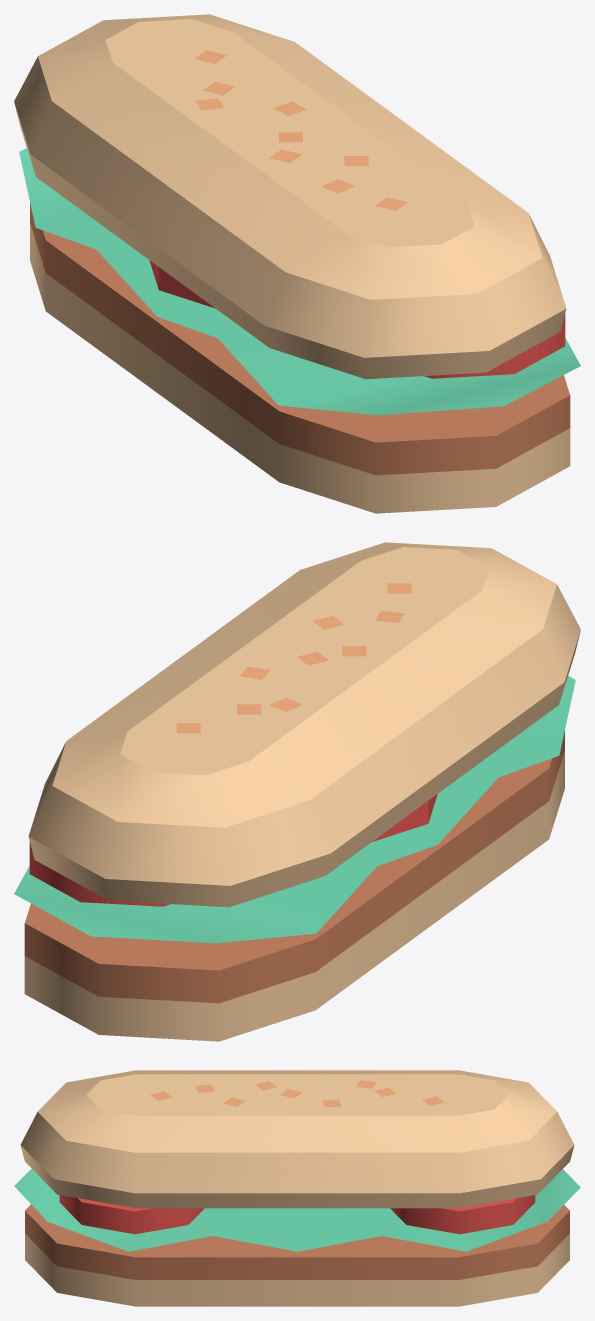
3 renders of one model, top to bottom at view 1: azimuth 30°, elevation 25°; view 2: azimuth 150°, elevation 25°; view 3: azimuth 270°, elevation 25°, orthographic. The views are drawn at different scales.
Visible parts, largest first — view 1: sub, meat, lettuce, tomaties_2, Group; view 2: sub, meat, lettuce, tomaties, Group; view 3: sub, meat, lettuce, tomaties_2, tomaties.
Boxes of the visible parts, x1,y1,x2,y2 form: sub: (14,14,570,513); meat: (30,203,570,475); lettuce: (19,148,580,415); tomaties_2: (424,314,565,378); Group: (149,260,214,308); sub: (24,542,580,1041); meat: (24,731,564,1003); lettuce: (14,676,575,943); tomaties: (29,842,170,906); Group: (372,794,437,841); sub: (20,1070,574,1306); meat: (25,1204,569,1279); lettuce: (14,1169,580,1251); tomaties_2: (59,1195,204,1234); tomaties: (390,1195,535,1234).
Bounding box in the file's own units: 0.2827 × 0.2125 × 0.6756.
